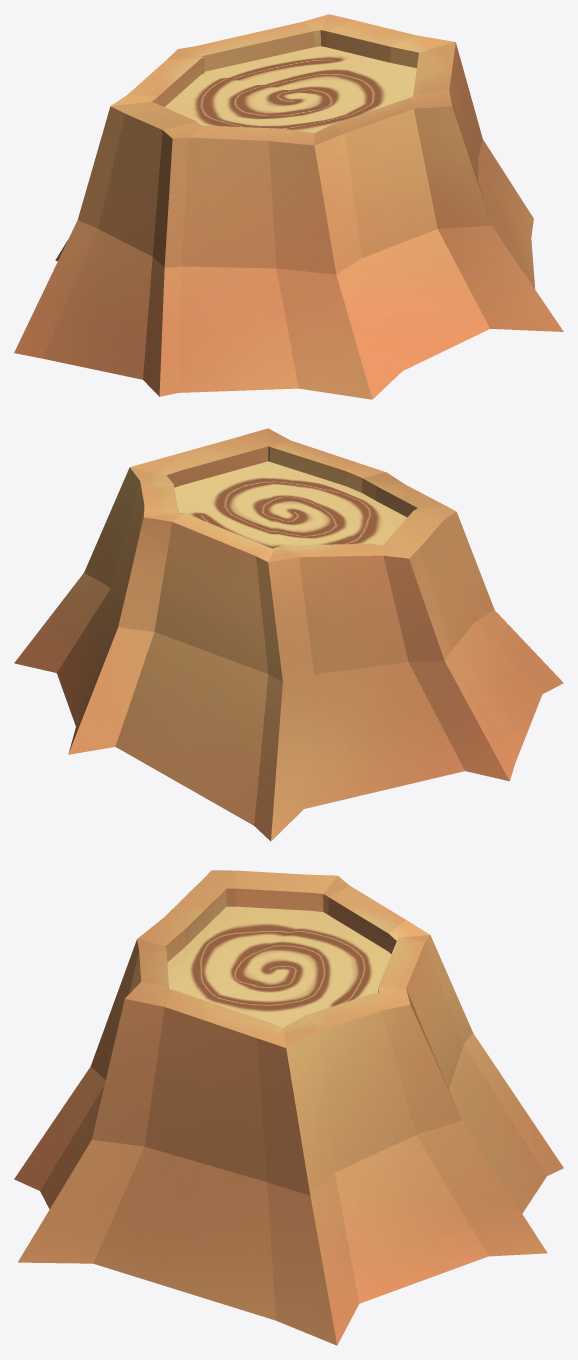
The model's file is tree cut without leaves.fbx.
3 renders of one model, top to bottom at view 1: azimuth 30°, elevation 25°; view 2: azimuth 150°, elevation 25°; view 3: azimuth 270°, elevation 25°, orthographic. The views are drawn at different scales.
Parts seen in each view (by area): view 1: half tree; view 2: half tree; view 3: half tree.
Part boxes in pixels (left/top/right/bottom): half tree: left=14, top=14, right=563, bottom=399; half tree: left=14, top=428, right=563, bottom=841; half tree: left=14, top=870, right=563, bottom=1345.
Bounding box in the file's own units: 105 × 47.72 × 85.56.
1 material, 1 textured.
